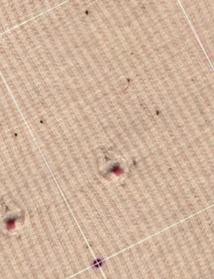hole: (96, 151, 139, 188), (1, 201, 27, 237)
stain: (29, 108, 54, 138), (84, 251, 114, 272), (117, 70, 142, 91), (147, 107, 174, 126), (78, 3, 100, 24), (8, 128, 25, 146)
